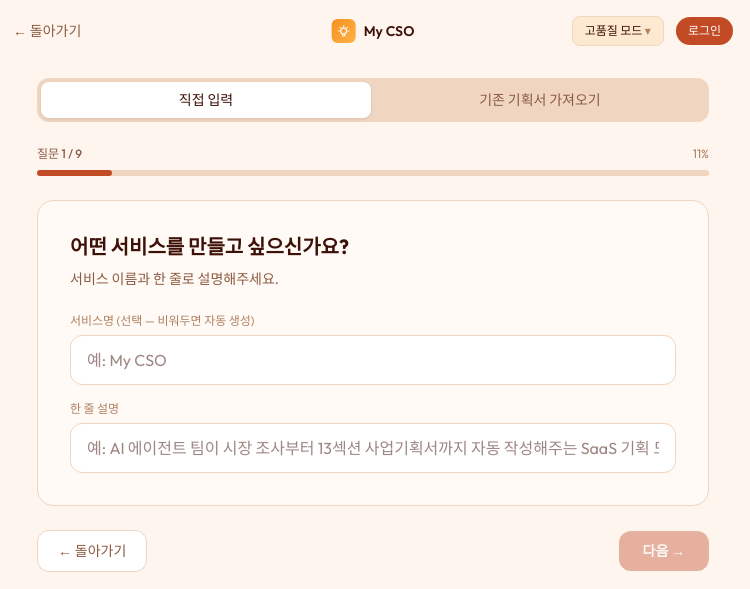
Test: Guided Page Integration › can switch to import tab and shows paste option
Click the button "기존 기획서 가져오기" at {"x": 540, "y": 100}, box x1=375 y1=82 x2=705 y2=118
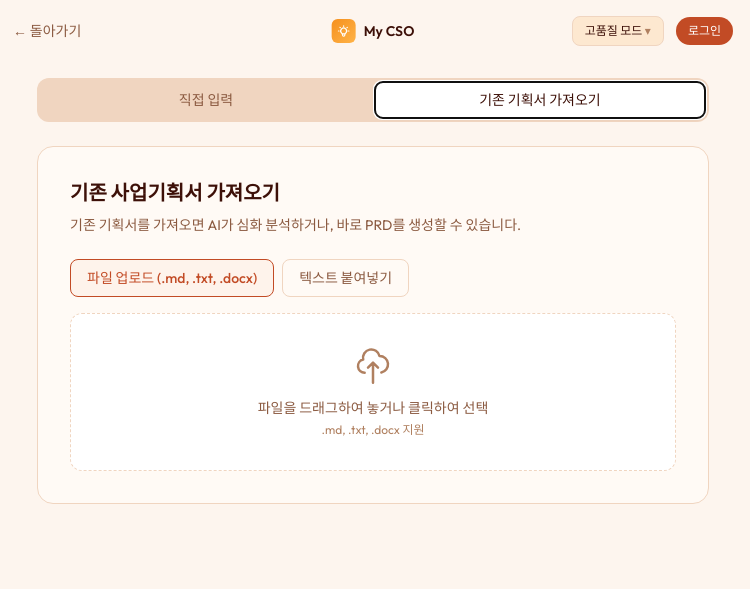
Result: the heading "기존 사업기획서 가져오기" is shown at x1=70 y1=180 x2=280 y2=205
Result: the button "파일 업로드 (.md, .txt, .docx)" is shown at x1=70 y1=259 x2=274 y2=297
Result: the button "텍스트 붙여넣기" is shown at x1=282 y1=259 x2=409 y2=297
